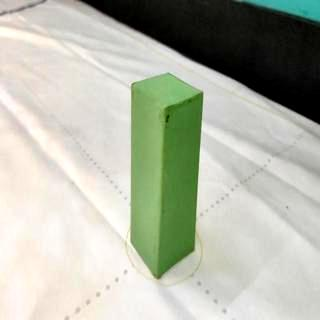greenbox: (128, 70, 206, 280)
